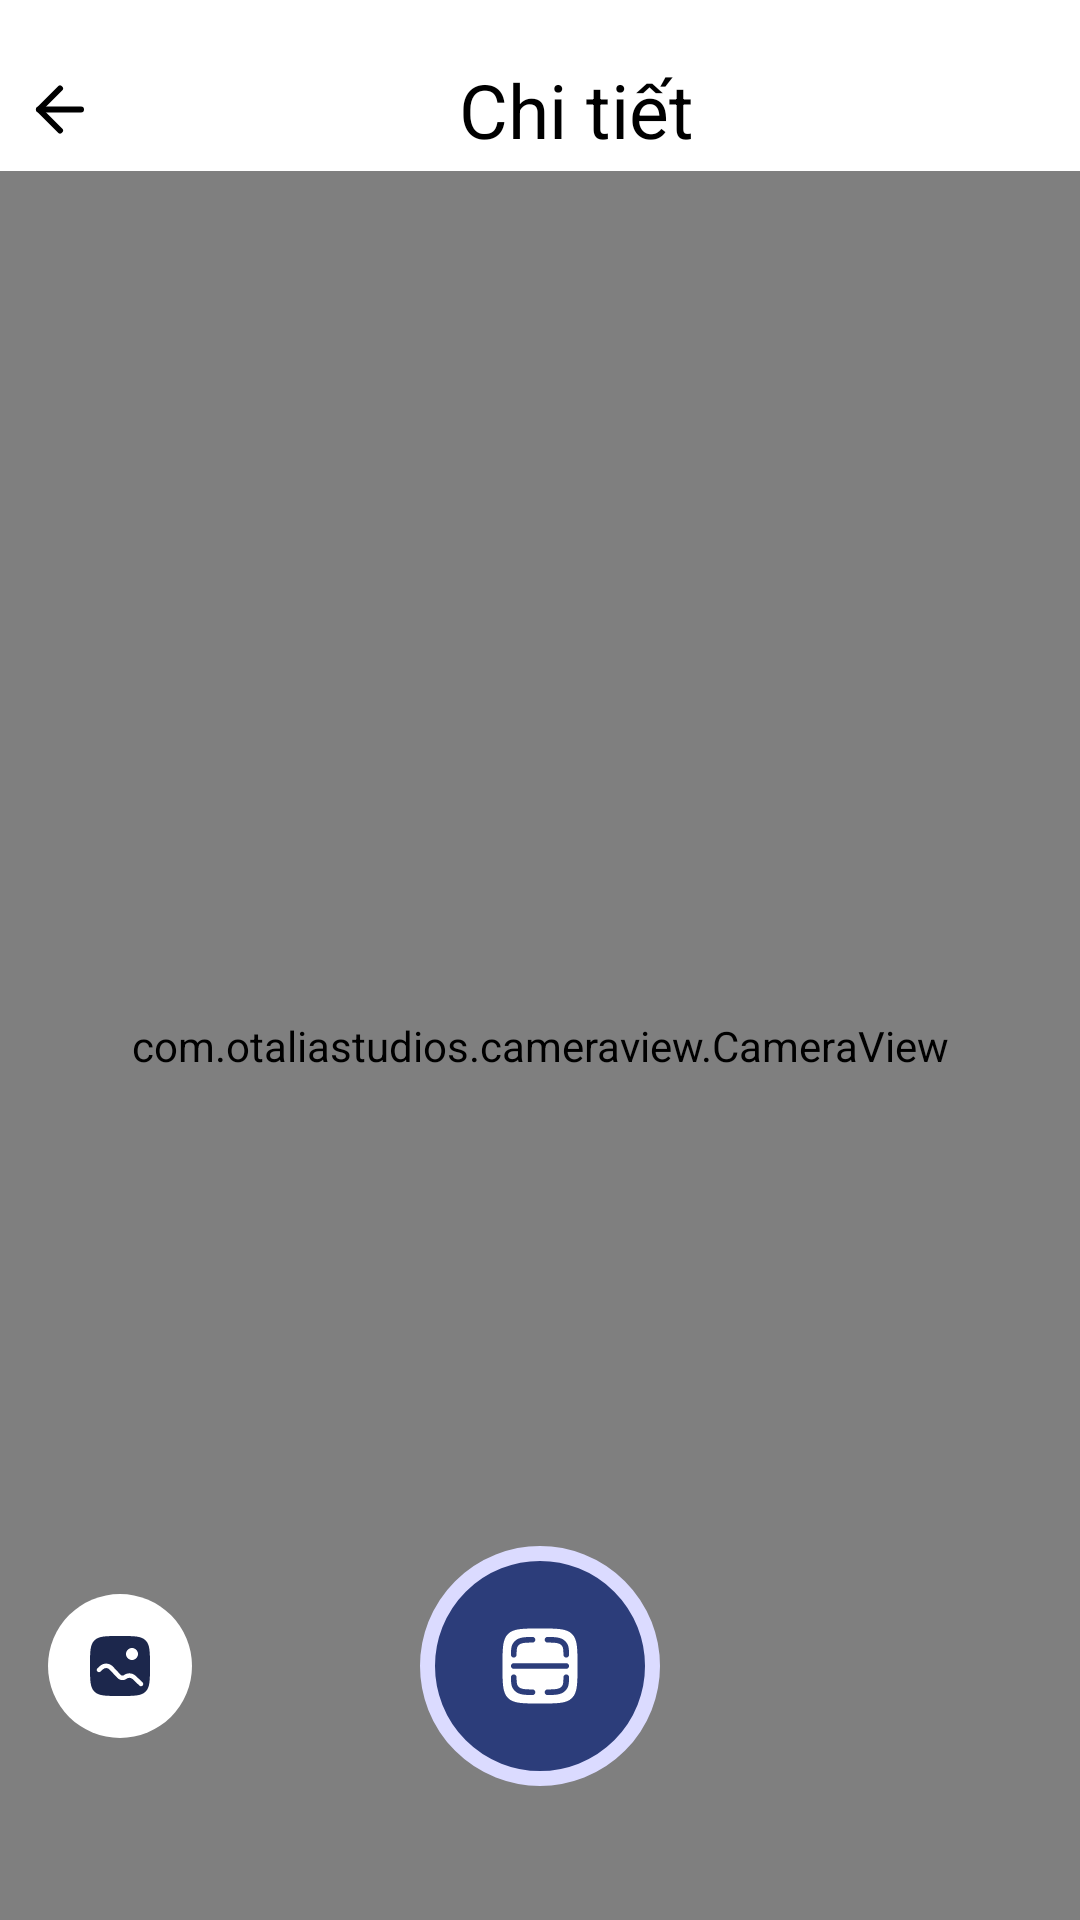

Icons on this 1080×1920 Android screen, each with its box as [left=x1, top=y1, right=x2, bottom=y2]:
back: [left=35, top=85, right=84, bottom=134]
library: [left=48, top=1594, right=192, bottom=1738]
